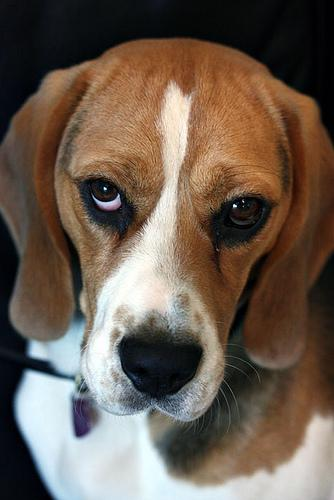dog-beagle: (0, 36, 333, 420)
